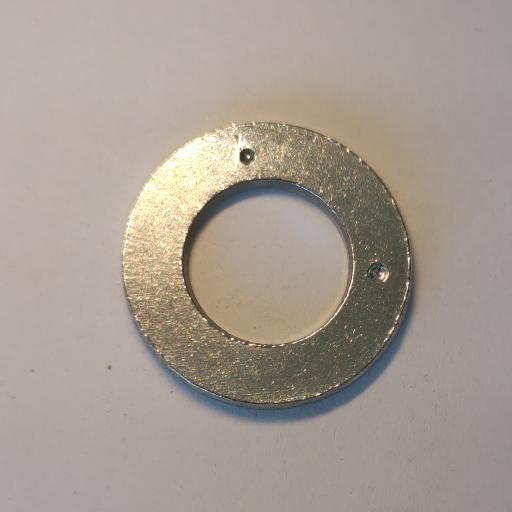circular_cavity: (367, 262, 390, 283), (239, 148, 256, 165)
